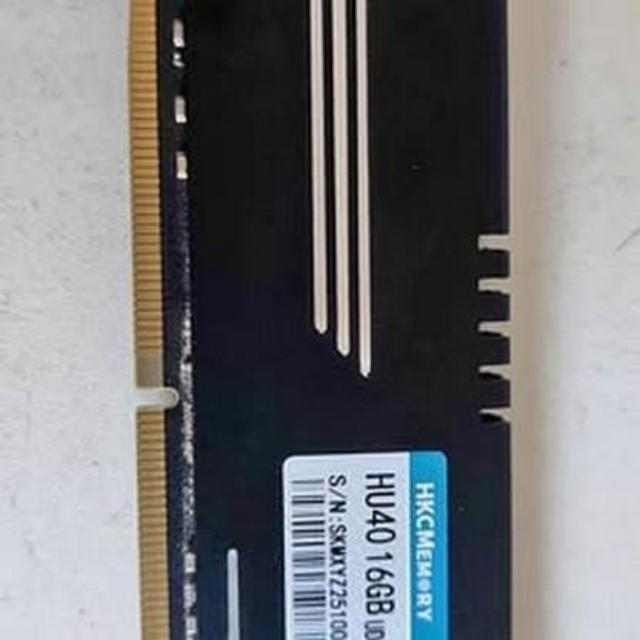RAM: (102, 0, 522, 640)
